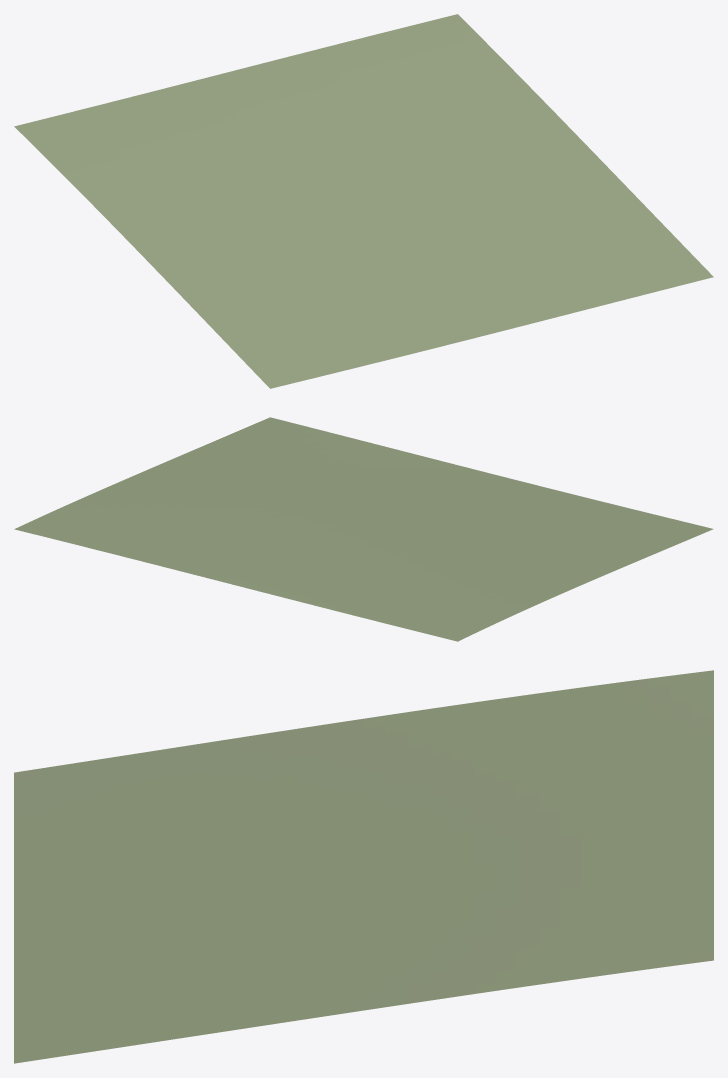
File: desert-30-10.glb
3 renders of one model, top to bottom at view 1: azimuth 30°, elevation 25°; view 2: azimuth 150°, elevation 25°; view 3: azimuth 270°, elevation 25°, orthographic. The views are drawn at different scales.
Parts seen in each view (by area): view 1: desert-30-10; view 2: desert-30-10; view 3: desert-30-10.
Part boxes in pixels (box(x1,y1,x2,y2)): desert-30-10: box(14, 14, 713, 388); desert-30-10: box(14, 417, 713, 641); desert-30-10: box(14, 670, 713, 1063).
Size of the model in its own units: 512 by 87.07 by 512.
